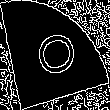O_W: (30, 28, 80, 82)
